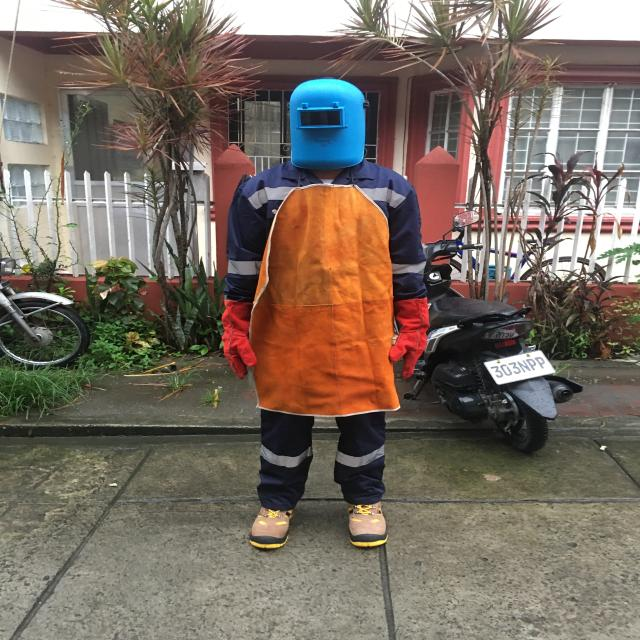with_helmet: (290, 78, 365, 170)
